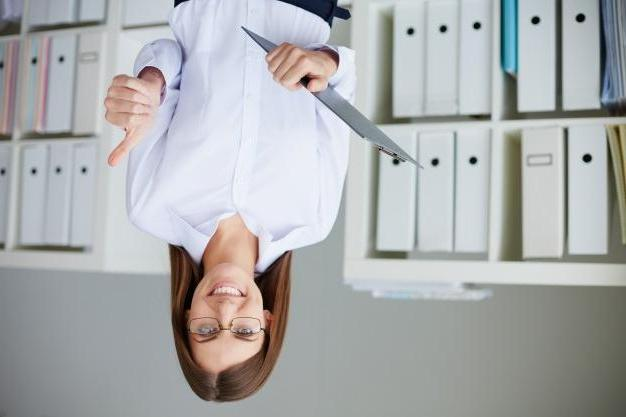thumbsdown: (103, 73, 152, 167)
